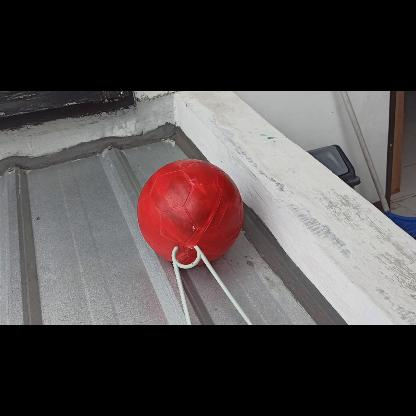red_ball: (136, 158, 244, 264)
